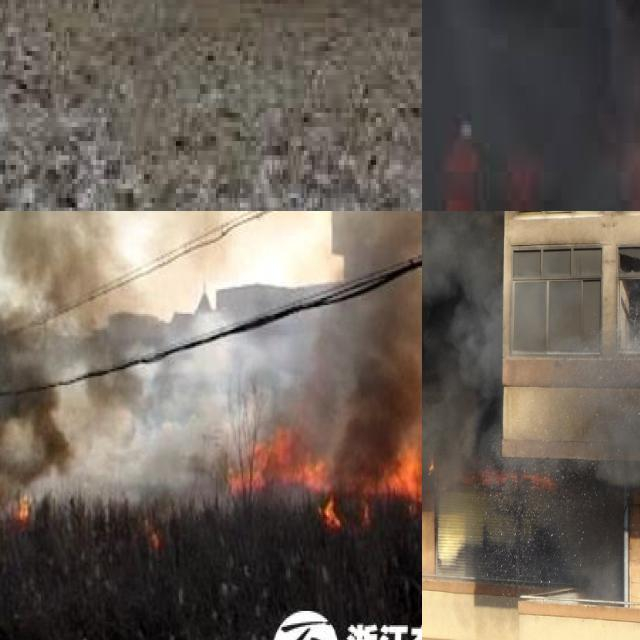fire: (230, 379, 422, 488), (318, 492, 340, 527)
smoke: (0, 211, 305, 493), (422, 211, 640, 482), (422, 0, 640, 211), (328, 211, 422, 472), (578, 548, 622, 604)
